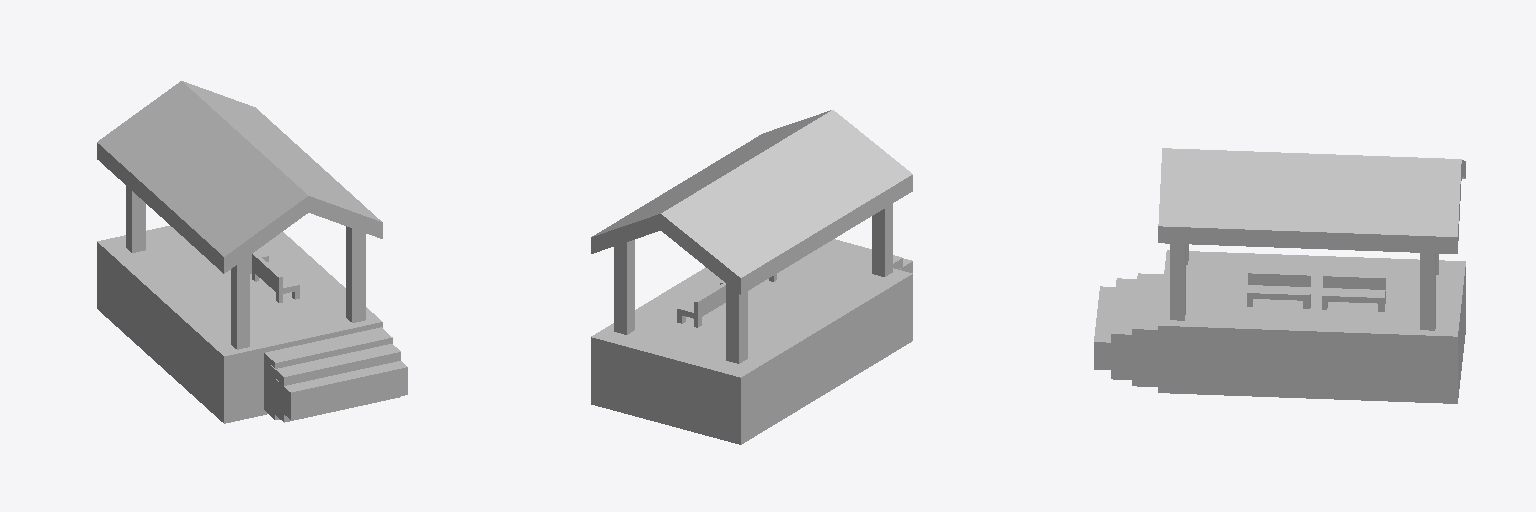
File: railway_station.obj
The picture shows the model from 3 angles: view 1: azimuth 30°, elevation 25°; view 2: azimuth 150°, elevation 25°; view 3: azimuth 270°, elevation 25°; orthographic projection.
Parts seen in each view (by area): view 1: pCube150 group42; view 2: pCube150 group42; view 3: pCube150 group42.
Part boxes in pixels (left/top/right/bottom): pCube150 group42: left=97, top=81, right=407, bottom=423; pCube150 group42: left=591, top=110, right=912, bottom=444; pCube150 group42: left=1094, top=148, right=1465, bottom=403.
Bounding box in the file's own units: 9.62 × 10.88 × 17.51.